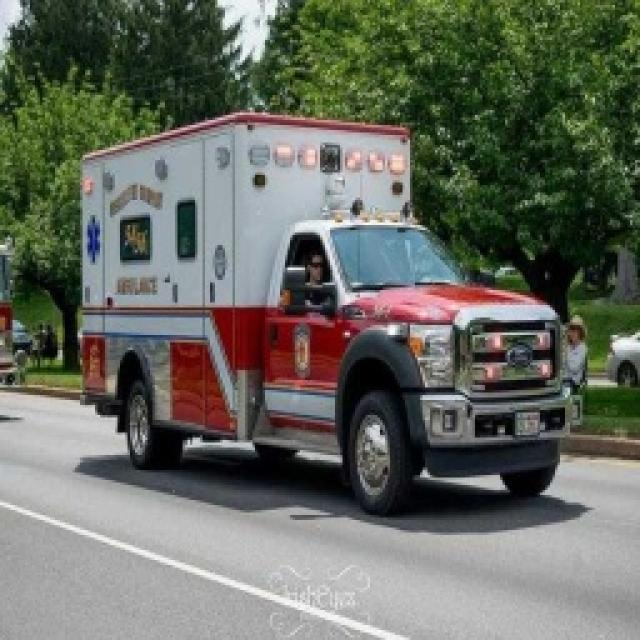emergency-vehicle: (75, 96, 555, 505)
